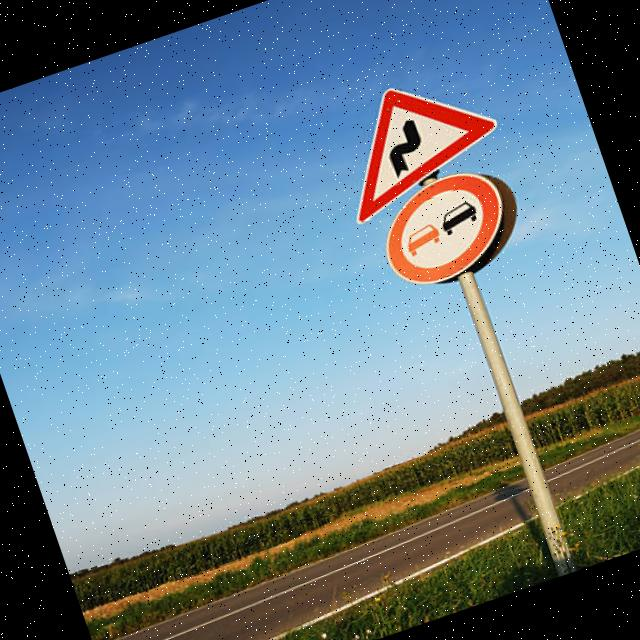no_passing: (354, 156, 531, 304)
